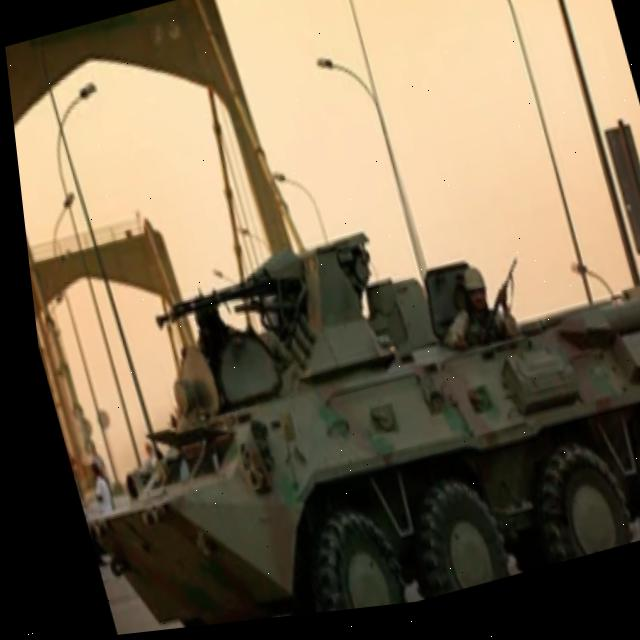MIL_APC: (20, 176, 640, 640)
